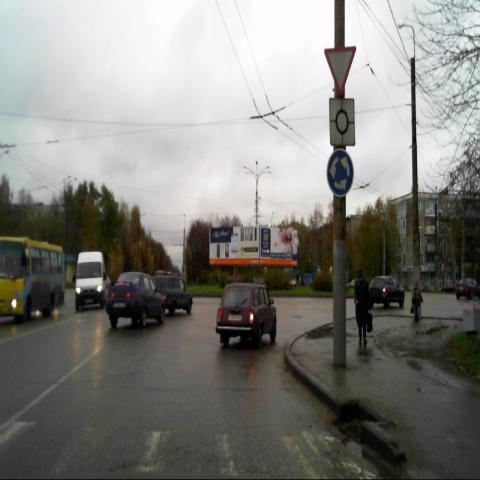4_3: (326, 149, 354, 198)
8_13_1: (328, 97, 356, 149)
